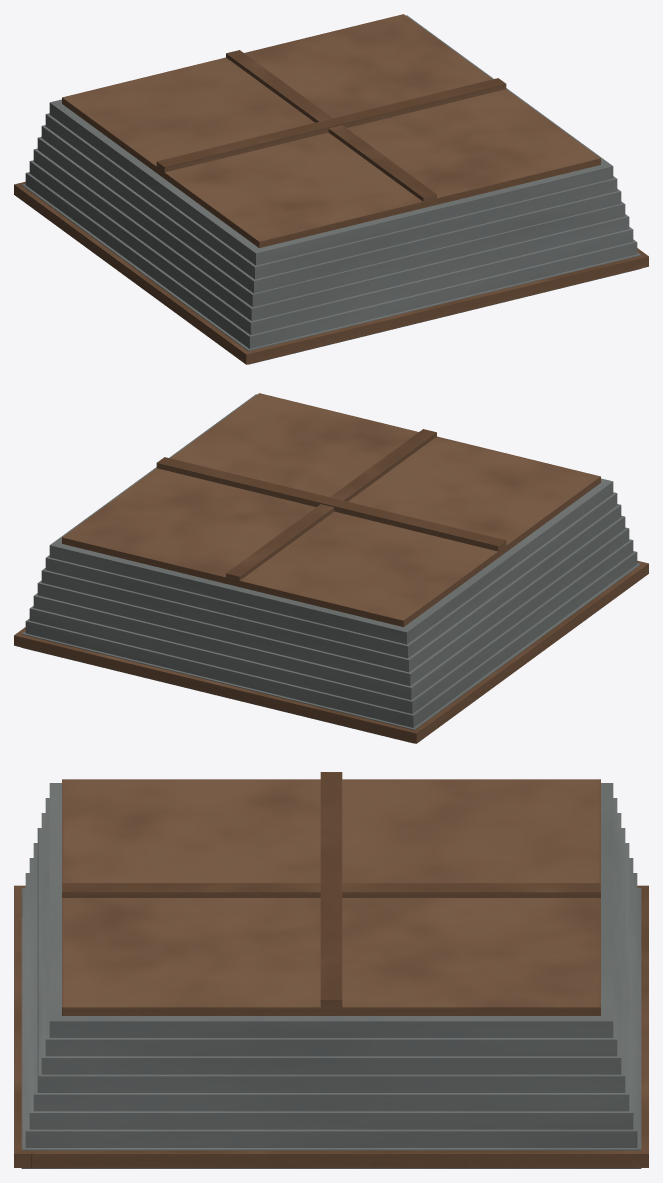
File: med_roof.glb
3 views of the same model, one above another, from view 1: azimuth 30°, elevation 25°; view 2: azimuth 150°, elevation 25°; view 3: azimuth 270°, elevation 25° (orthographic). The views are drawn at different scales.
Parts seen in each view (by area): view 1: med_roof; view 2: med_roof; view 3: med_roof.
Boxes of the visible parts, box(x1,y1,x2,y2) form: med_roof: box(14, 14, 648, 364); med_roof: box(14, 393, 648, 743); med_roof: box(14, 772, 648, 1168).
Bounding box in the file's own units: 4.1 × 1.08 × 4.1.
Materials: 1 (1 with a texture image).
